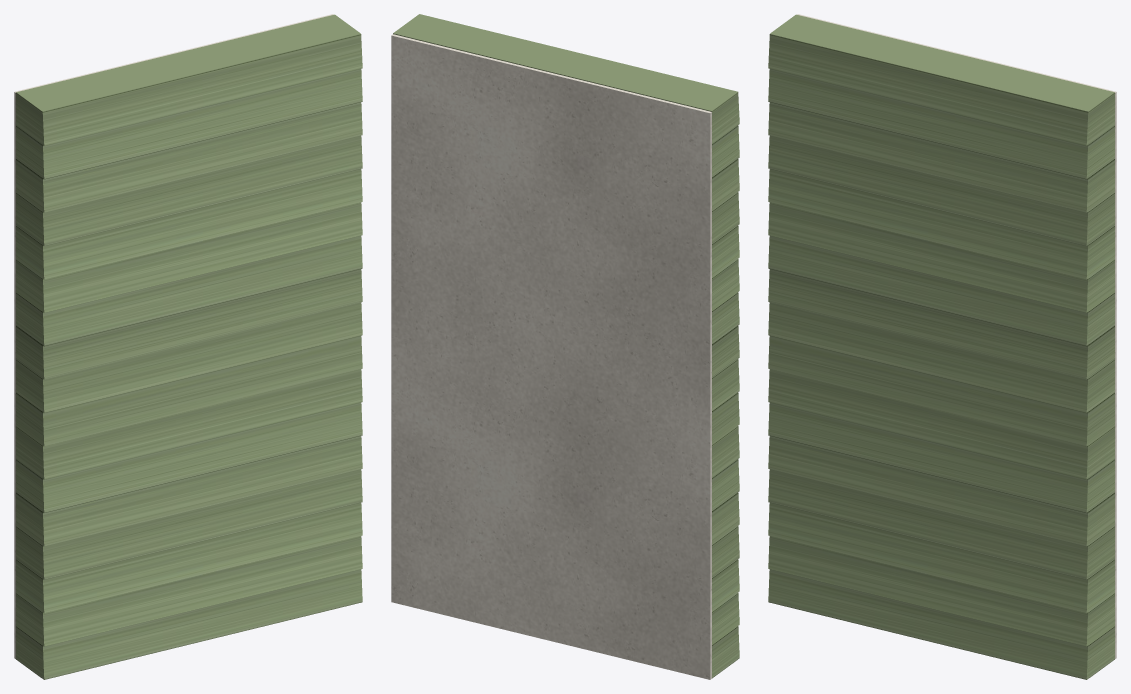
File: f_u_plain_b.glb
3 renders of one model, left to right at view 1: azimuth 30°, elevation 25°; view 2: azimuth 150°, elevation 25°; view 3: azimuth 330°, elevation 25°, orthographic.
Visible parts, largest first — view 1: f_u_plain_b_siding_b, f_u_plain_b_plaster; view 2: f_u_plain_b_plaster, f_u_plain_b_siding_b; view 3: f_u_plain_b_siding_b, f_u_plain_b_plaster.
Part boxes in pixels (<box>): f_u_plain_b_siding_b: <box>16,14,362,679</box>; f_u_plain_b_plaster: <box>14,14,333,658</box>; f_u_plain_b_plaster: <box>391,34,711,679</box>; f_u_plain_b_siding_b: <box>393,14,739,678</box>; f_u_plain_b_siding_b: <box>768,14,1114,679</box>; f_u_plain_b_plaster: <box>797,14,1116,658</box>.
Bounding box in the file's own units: 2 × 3.4 × 0.324.
Materials: 2 (2 with a texture image).
